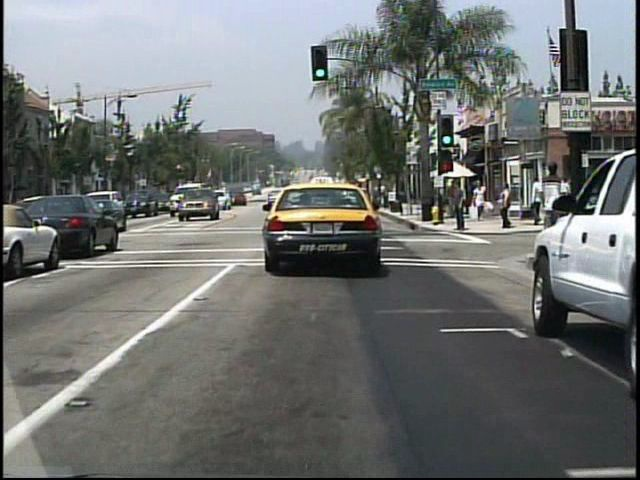person: (535, 158, 570, 260), (453, 182, 470, 235), (499, 181, 517, 230), (446, 181, 463, 226), (476, 180, 491, 222)
